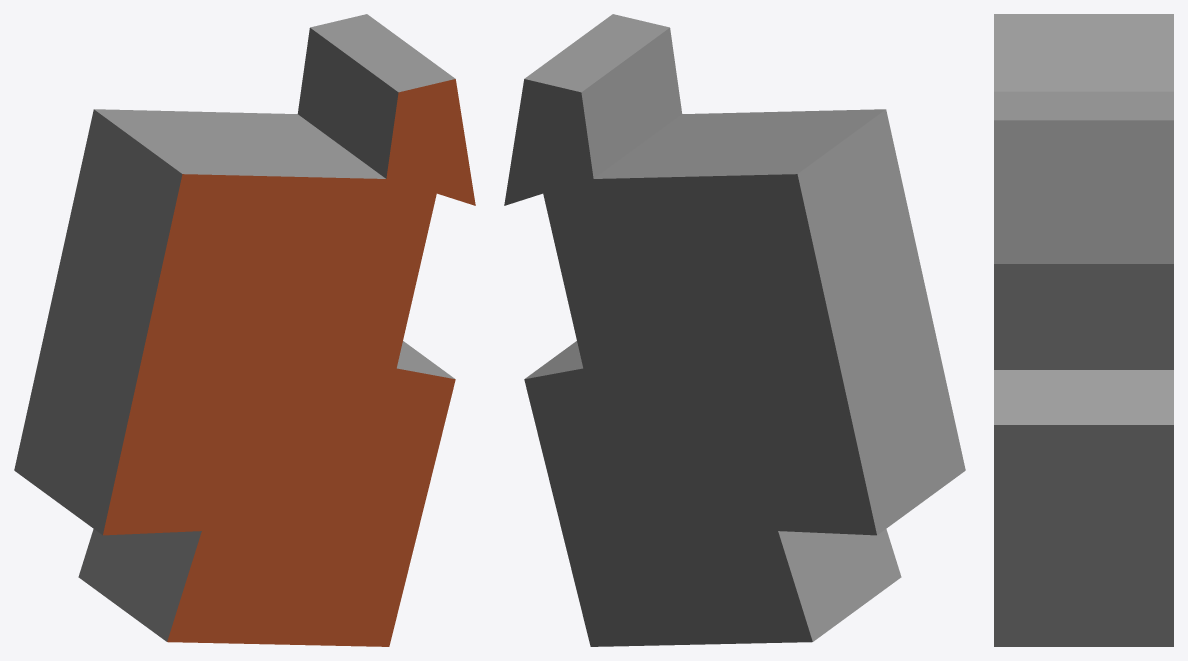
File: construction_0454_assumed_A_Casa_h6m.obj
3 renders of one model, left to right at view 1: azimuth 30°, elevation 25°; view 2: azimuth 150°, elevation 25°; view 3: azimuth 270°, elevation 25°, orthographic.
Parts seen in each view (by area): view 1: construction_0454_assumed_A_Casa; view 2: construction_0454_assumed_A_Casa; view 3: construction_0454_assumed_A_Casa.
Boxes of the visible parts, left/top/right/bottom form: construction_0454_assumed_A_Casa: left=14, top=14, right=475, bottom=646; construction_0454_assumed_A_Casa: left=504, top=14, right=965, bottom=646; construction_0454_assumed_A_Casa: left=994, top=14, right=1173, bottom=646.
Bounding box in the file's own units: 14.57 × 20.62 × 6.
